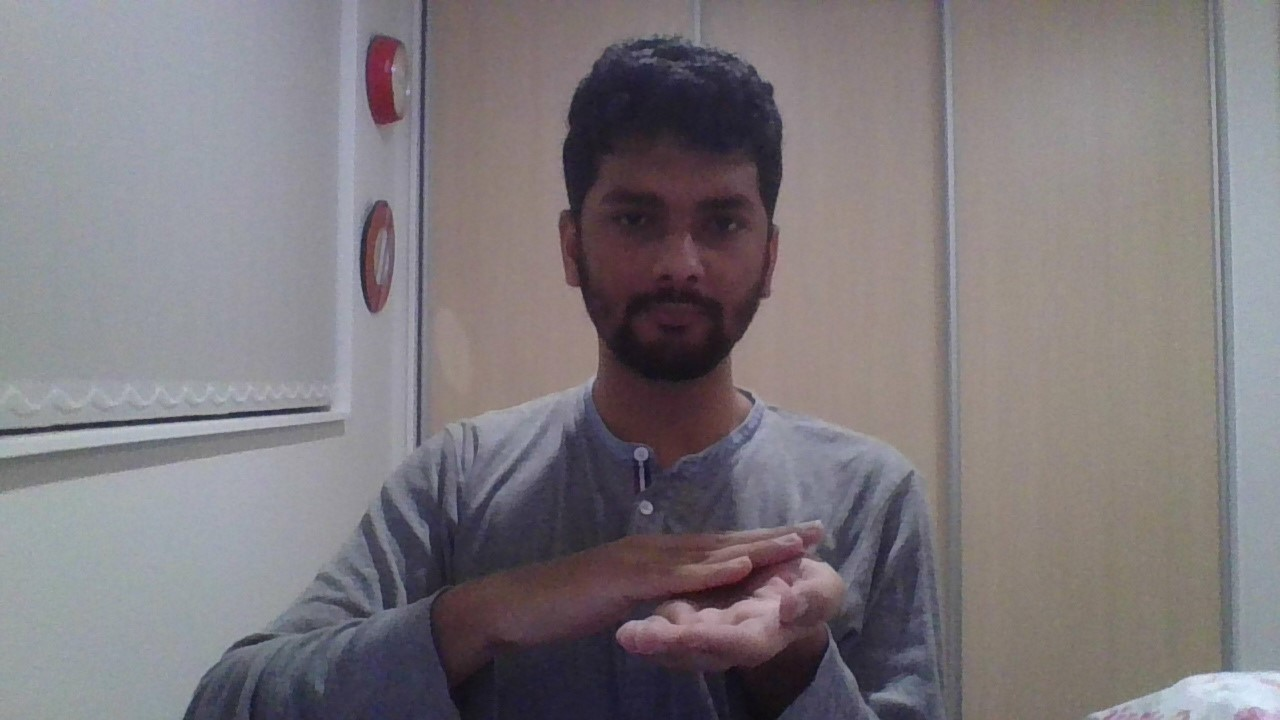clear: (459, 519, 850, 667)
